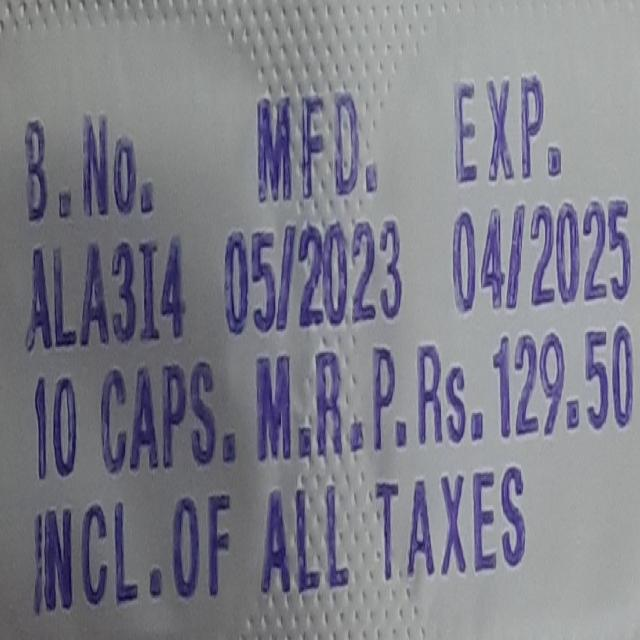sentence: (31, 324, 635, 481), (26, 201, 631, 350), (31, 466, 526, 622), (25, 113, 154, 224), (258, 87, 378, 202), (454, 75, 561, 183)
